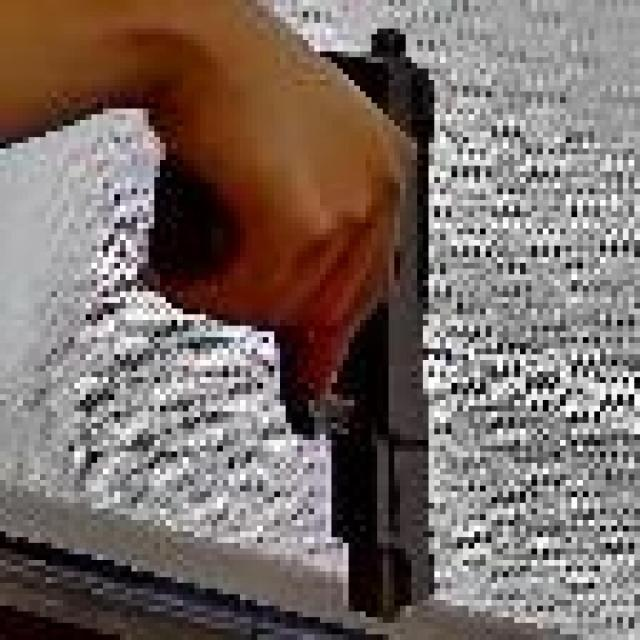pistol: (136, 14, 539, 628)
